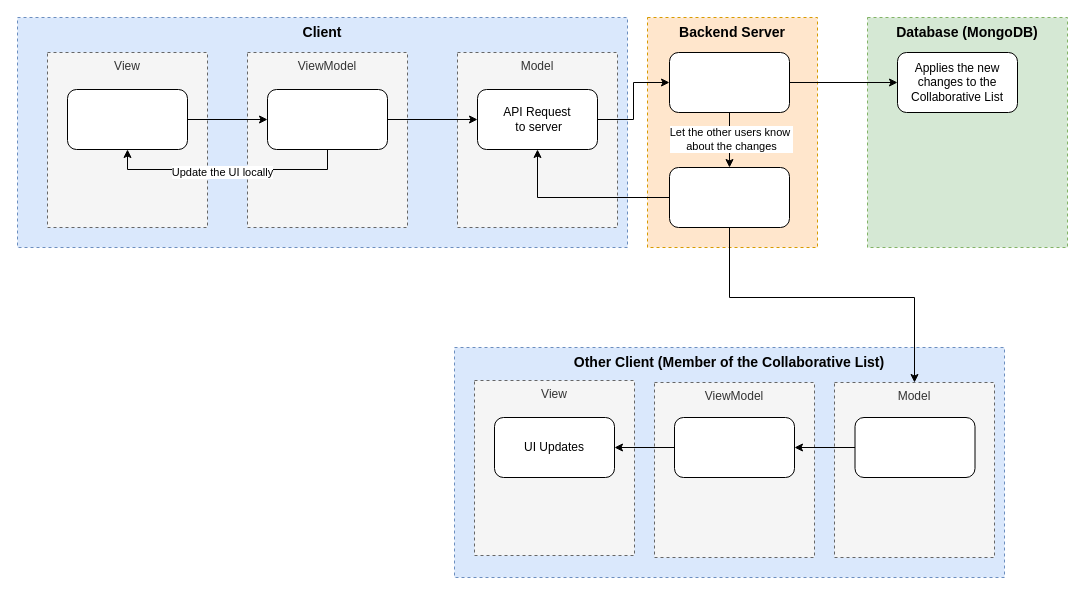
The diagram is 1085 pixels wide and 595 high, and some of its shapes have lost their labels. Each missing label, with the centre of its shape:
"Changes the states" goes at point 734,447.
"io socket (responsible for sync)" goes at point 729,197.
"Parses the new changes for an API request" goes at point 327,119.
"Parses the new changes to the collaborative list" goes at point 914,447.
"Processes the request" goes at point 729,82.
"User modifies the list" goes at point 127,119.
